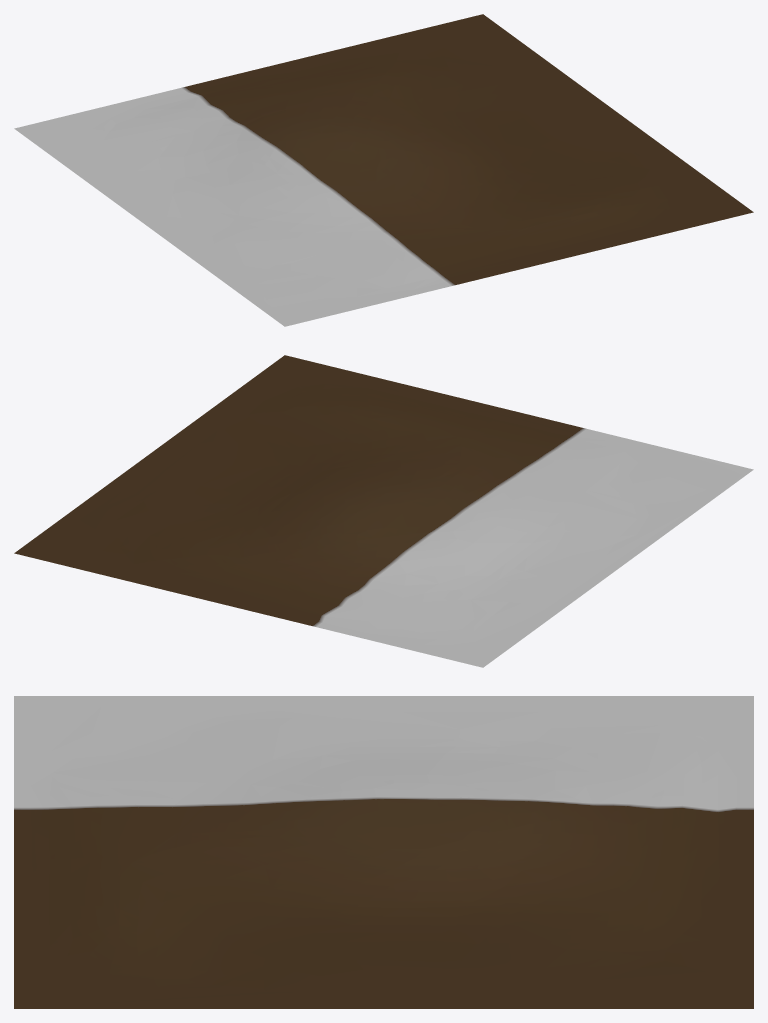
Rendered from Terrain_02.fbx.
3 views of the same model, one above another, from view 1: azimuth 30°, elevation 25°; view 2: azimuth 150°, elevation 25°; view 3: azimuth 270°, elevation 25° (orthographic). The views are drawn at different scales.
Visible parts, largest first — view 1: Terrain_02; view 2: Terrain_02; view 3: Terrain_02.
Part boxes in pixels (left/top/right/bottom): Terrain_02: left=14, top=14, right=753, bottom=326; Terrain_02: left=14, top=355, right=753, bottom=667; Terrain_02: left=14, top=696, right=753, bottom=1008.
Size of the model in its own units: 128 by 2.32 by 128.
